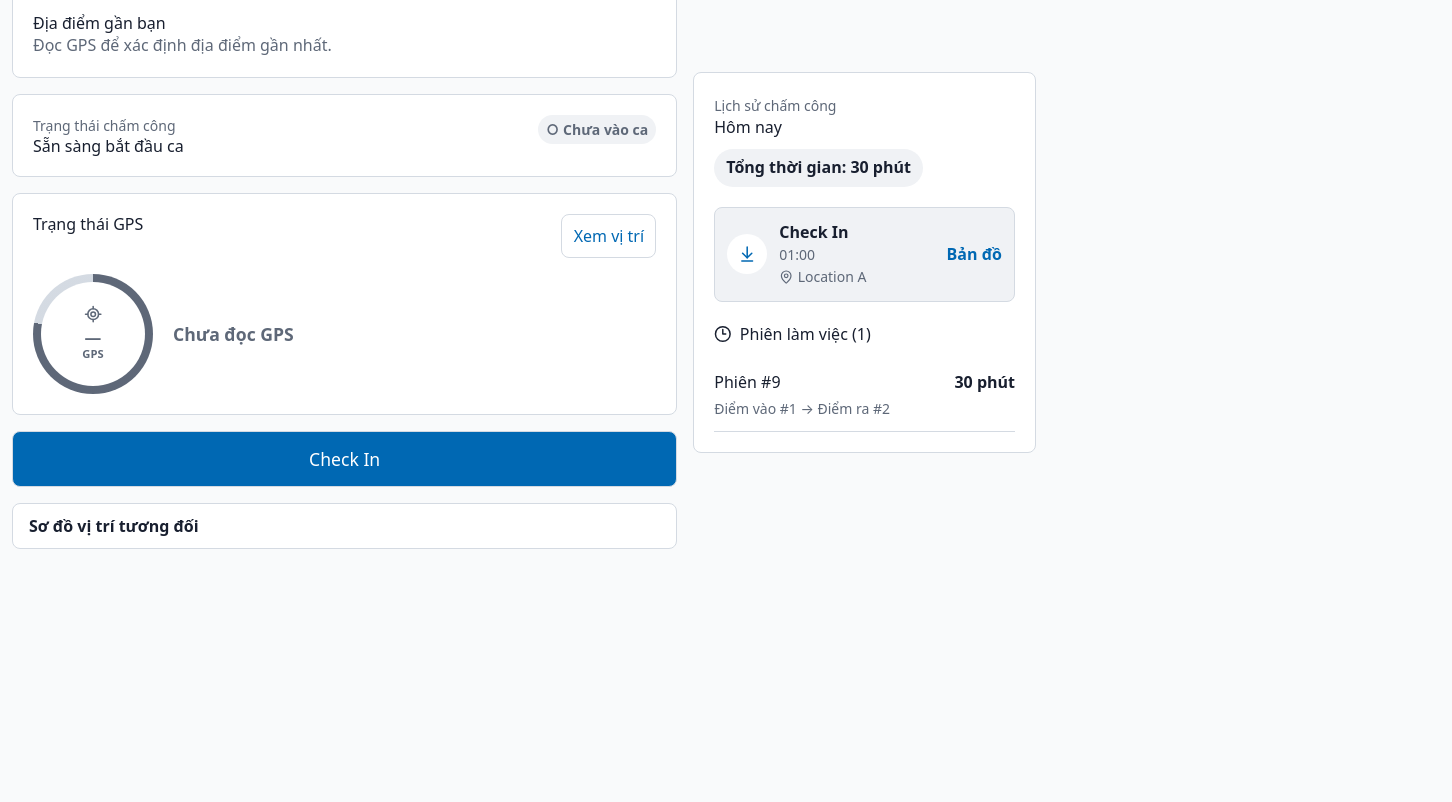
Test: AttendancePanel › presents a server OUTSIDE_RADIUS rejection as the authoritative outcome
Click the button "Xem vị trí".
click(609, 236)  # box [561,214,656,258]
(page scrolled)
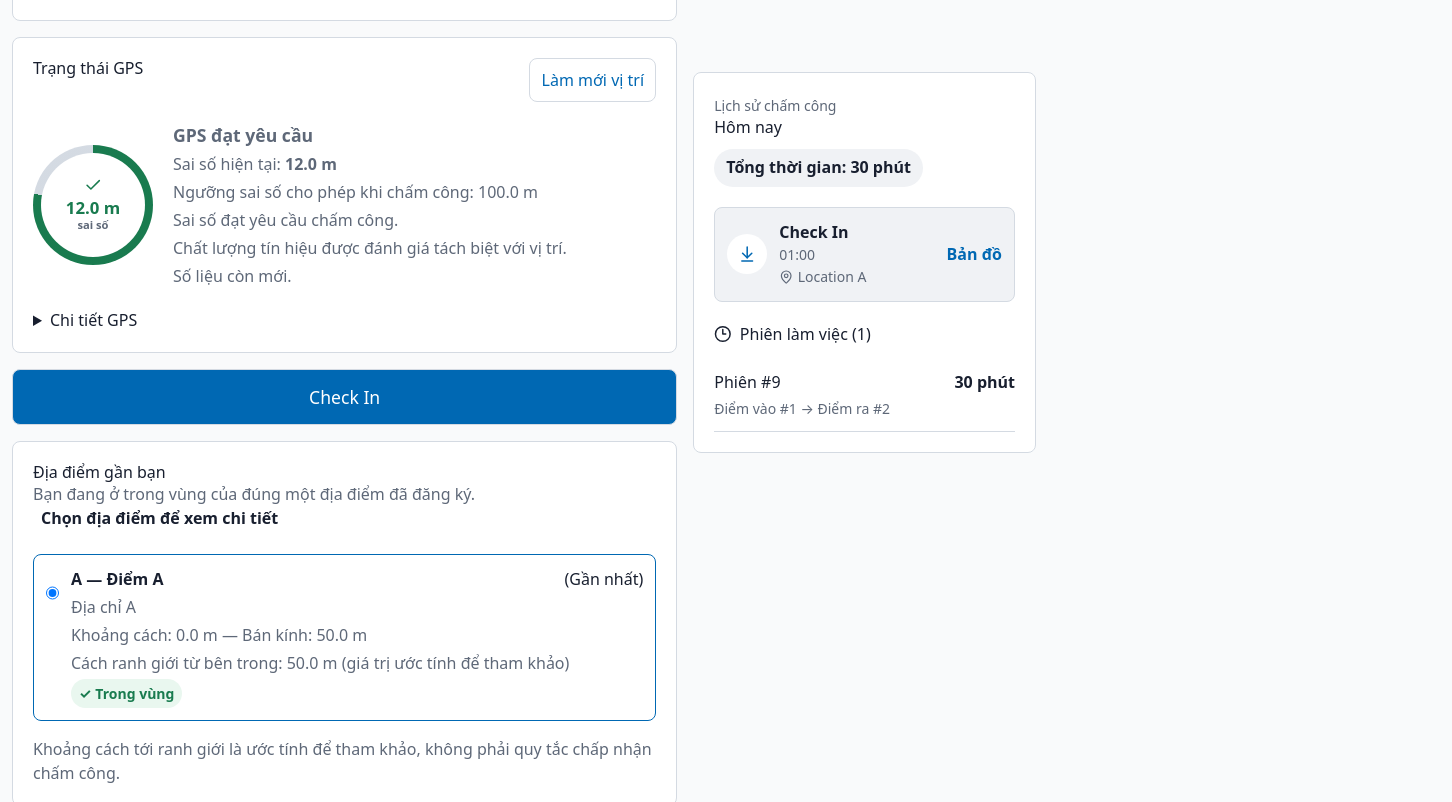
Check: the text "Bạn đang ở trong vùng của đúng một địa điểm đã đăng ký." is shown, box [33,483,475,505]
Click the button "Check In".
click(345, 397)  # box [12,369,677,425]
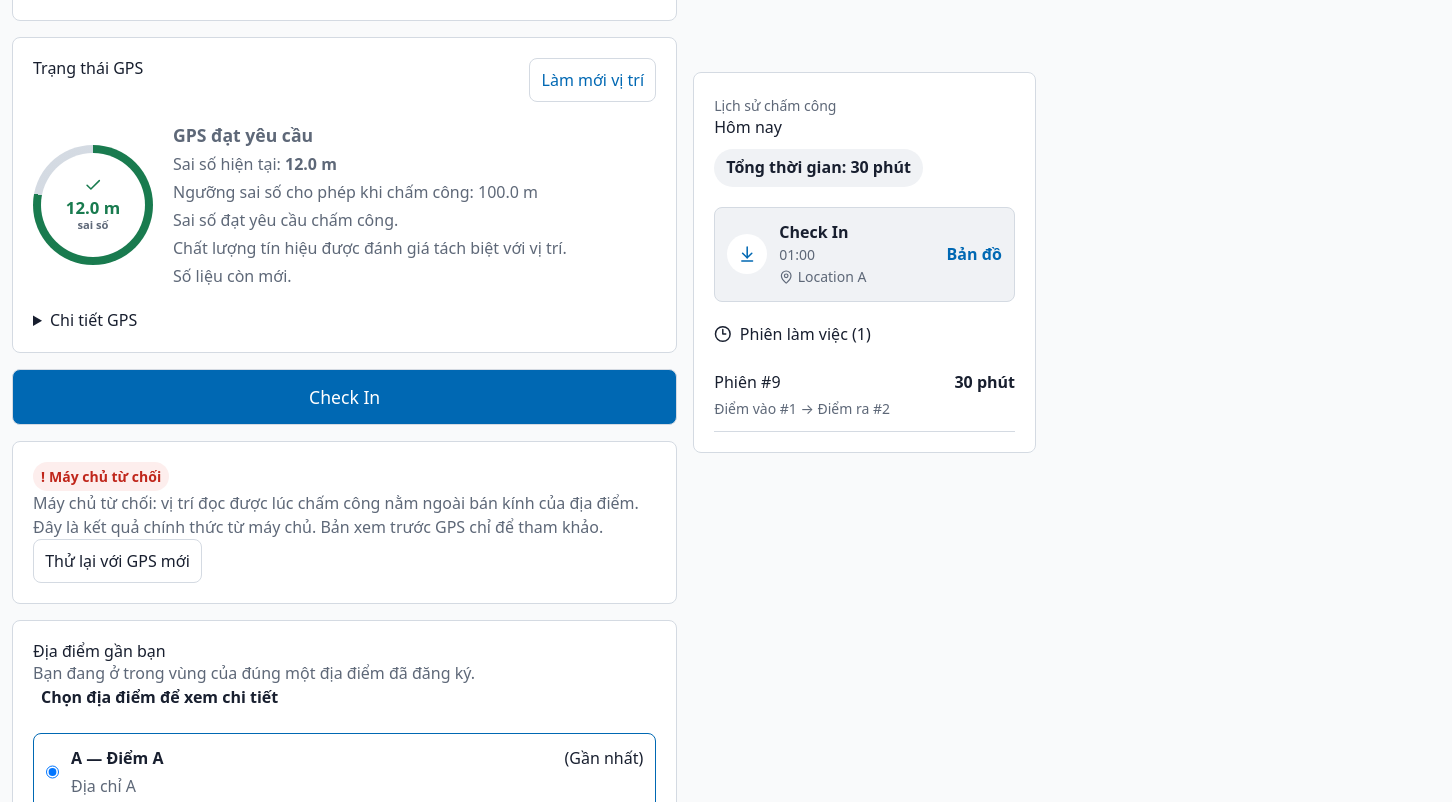
Check: the text "Bạn đang ở trong vùng của đúng một địa điểm đã đăng ký." is shown, box [33,662,475,684]
Check: the message that starts with "Máy chủ từ chối" shows "Máy chủ từ chối: vị trí đọc được lúc chấm công nằm ngoài bán kính của địa điểm.", box [33,492,639,514]
Check: the message that starts with "Máy chủ từ chối" shows "Đây là kết quả chính thức từ máy chủ.", box [33,516,603,538]
